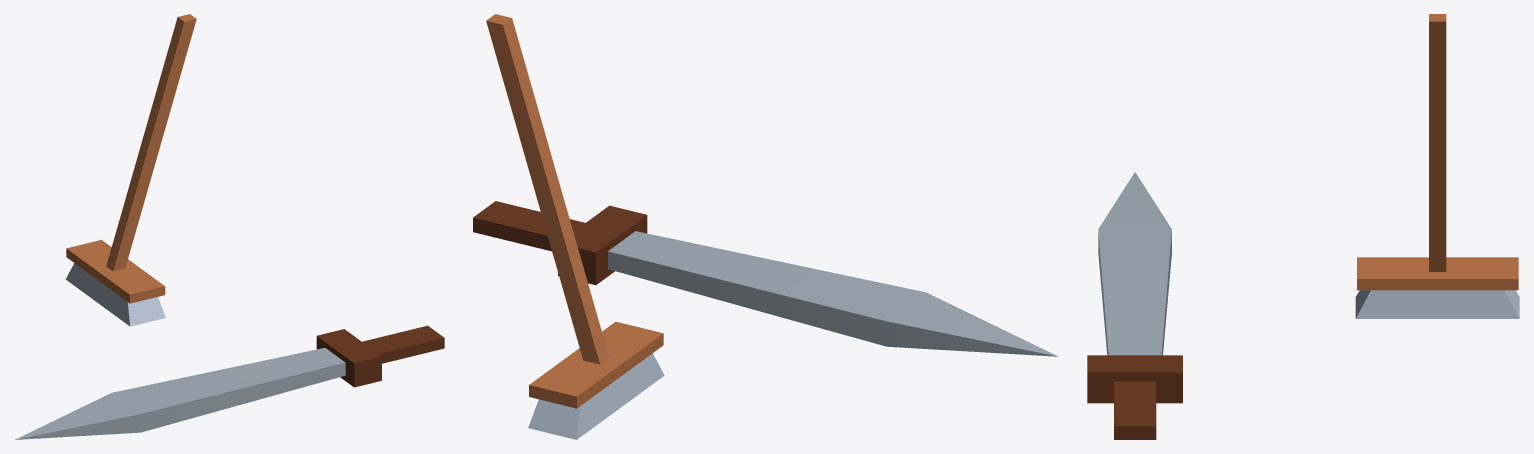
File: broom.fbx
3 renders of one model, left to right at view 1: azimuth 30°, elevation 25°; view 2: azimuth 150°, elevation 25°; view 3: azimuth 270°, elevation 25°, orthographic. The views are drawn at different scales.
Parts seen in each view (by area): view 1: Sword, Broom; view 2: Sword, Broom; view 3: Sword, Broom.
Boxes of the visible parts, <box> form: Sword: <box>15,325,444,439</box>; Broom: <box>65,14,196,326</box>; Sword: <box>473,201,1057,356</box>; Broom: <box>486,14,664,439</box>; Sword: <box>1087,172,1182,439</box>; Broom: <box>1355,14,1519,318</box>.
Bounding box in the file's own units: 171 × 107 × 119.
